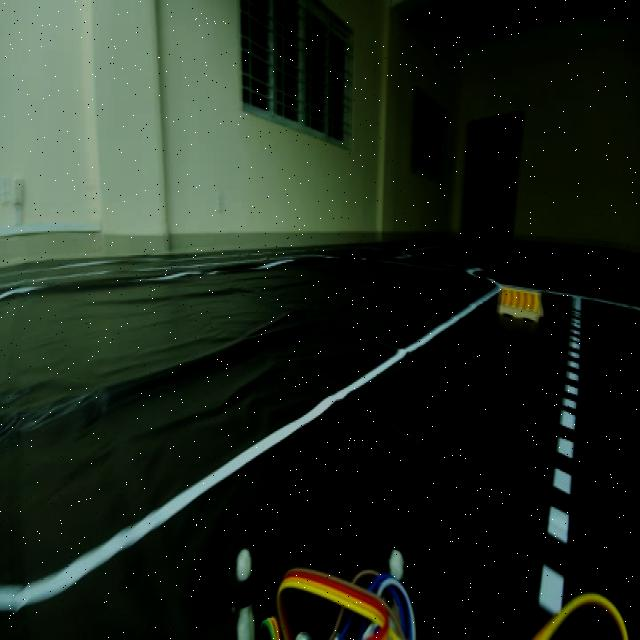roadblock: (496, 280, 542, 328)
